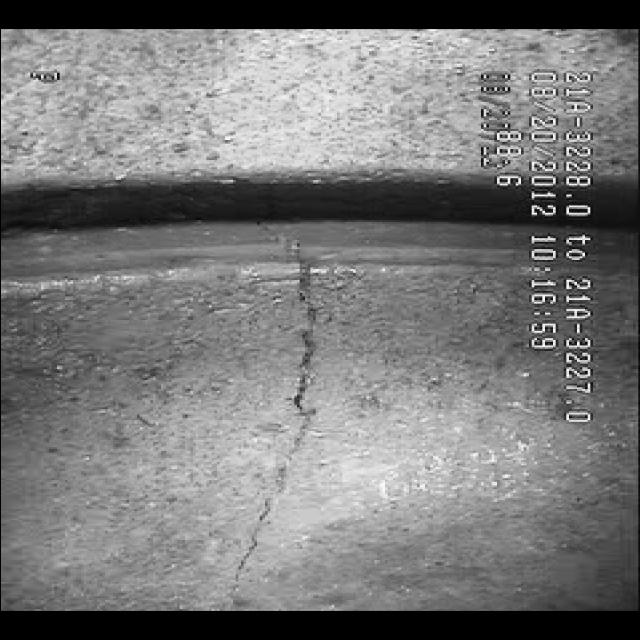Crack: (212, 259, 396, 610)
